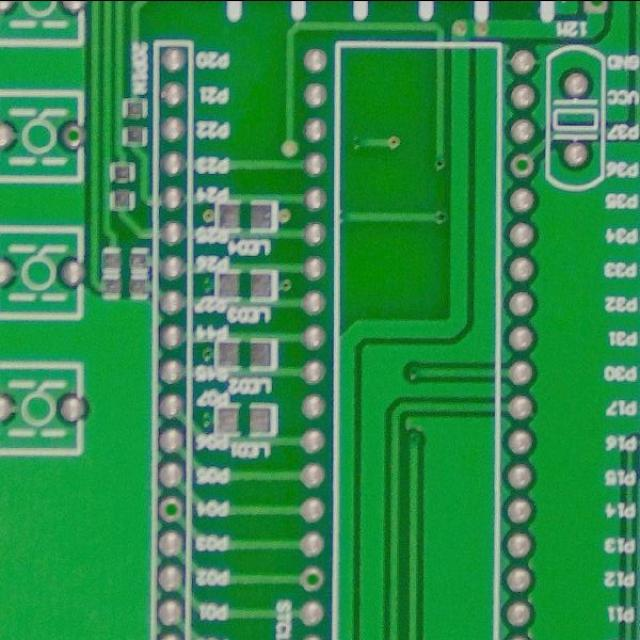Missing_Hole: (58, 118, 90, 152), (294, 564, 328, 594), (506, 152, 538, 180), (158, 494, 185, 526), (582, 0, 612, 17)
